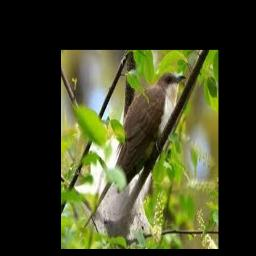Cuckoo: (84, 72, 186, 228)
